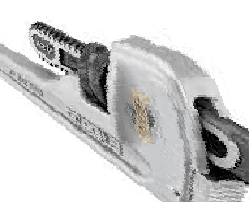Wrench: (2, 20, 249, 202)
